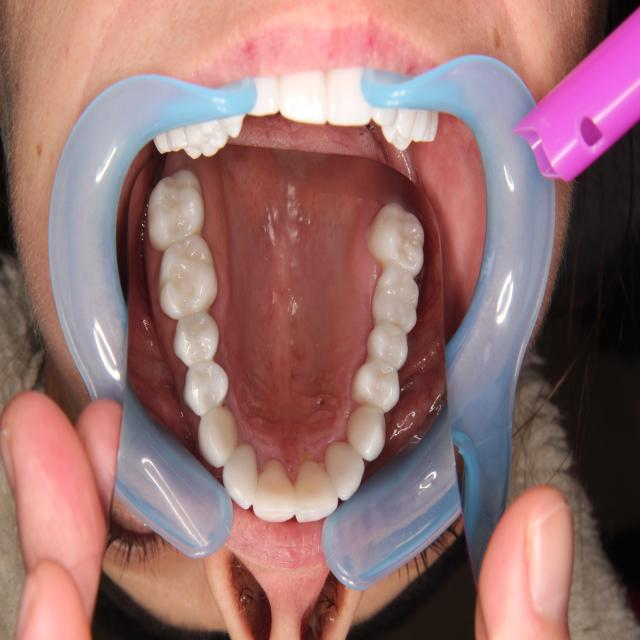tooth: (143, 164, 210, 259), (155, 233, 221, 326), (364, 197, 430, 283), (366, 258, 423, 336), (249, 450, 299, 529), (290, 450, 340, 526), (350, 349, 405, 418), (219, 433, 264, 513), (321, 429, 368, 504), (341, 393, 391, 463), (171, 308, 227, 370), (194, 402, 242, 473), (179, 357, 232, 418), (365, 315, 411, 373)
